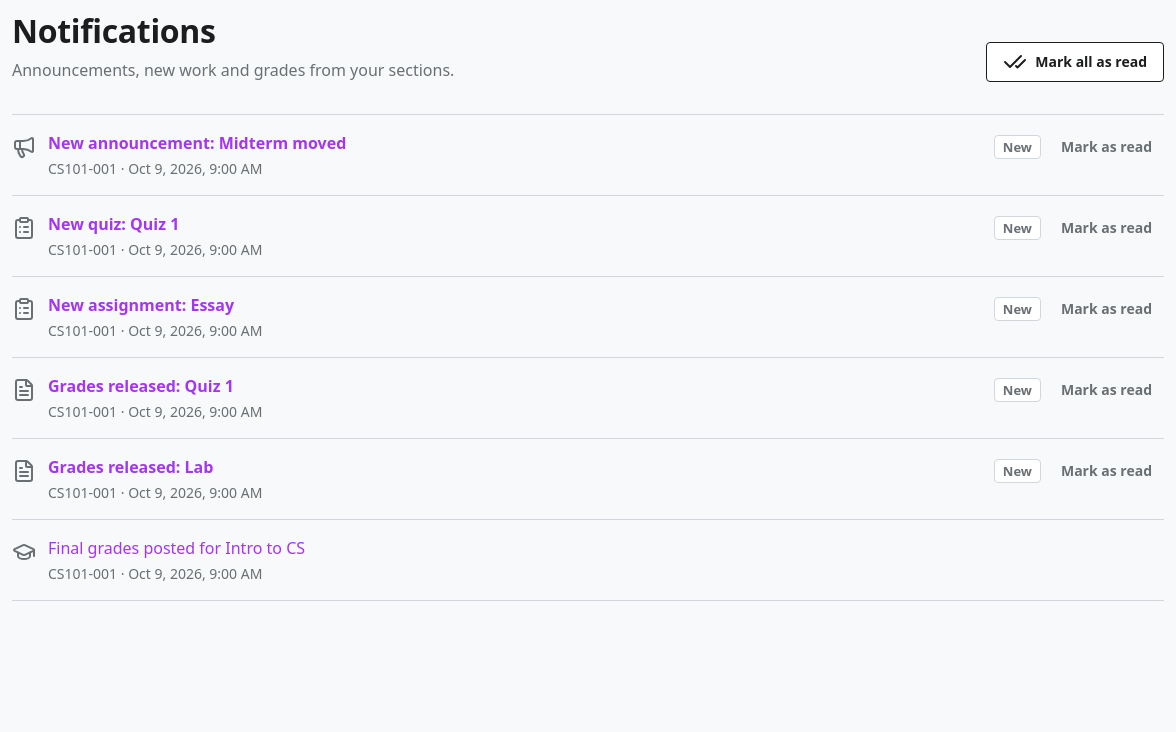
Test: Mark all as read sends PATCH and shows the status
Click the button "Mark all as read" at [1075, 62], box [986,42,1164,82]
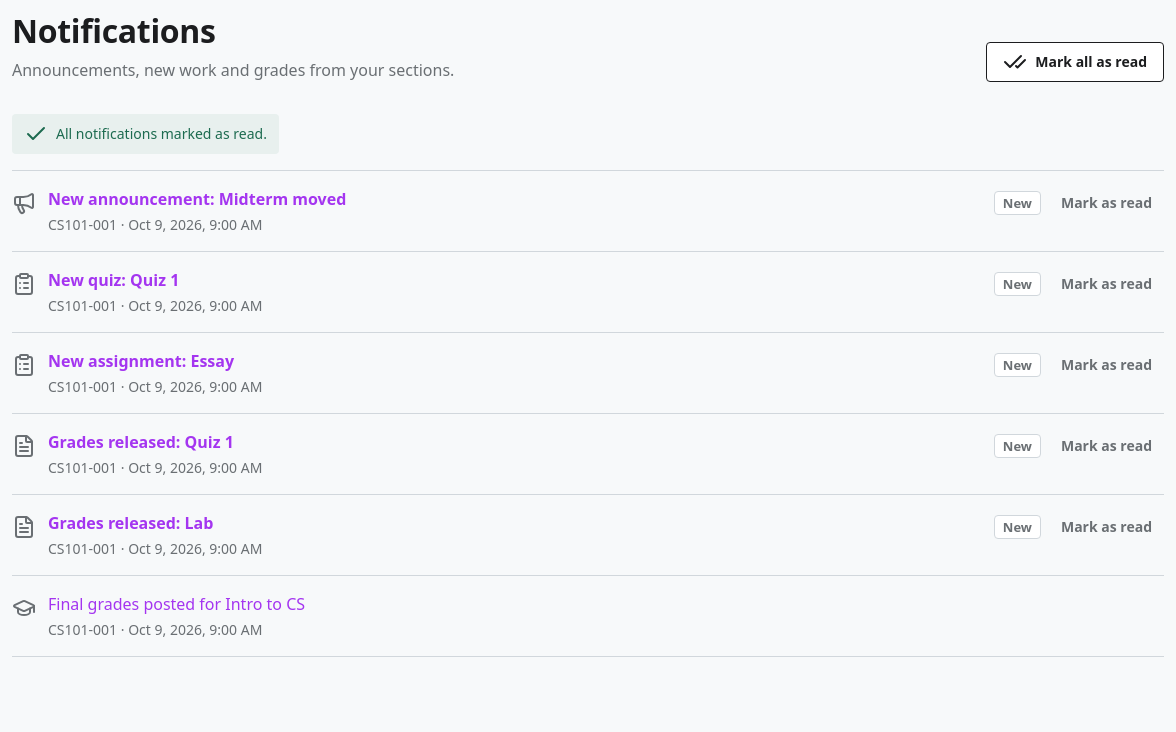
Expected: the text "All notifications marked as read." is shown, [12,114,279,154]
